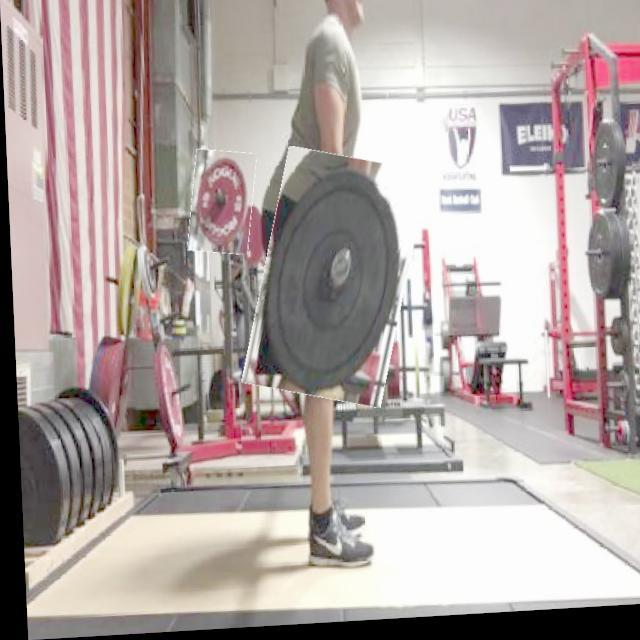barbell: (245, 152, 421, 412), (186, 152, 256, 260)
